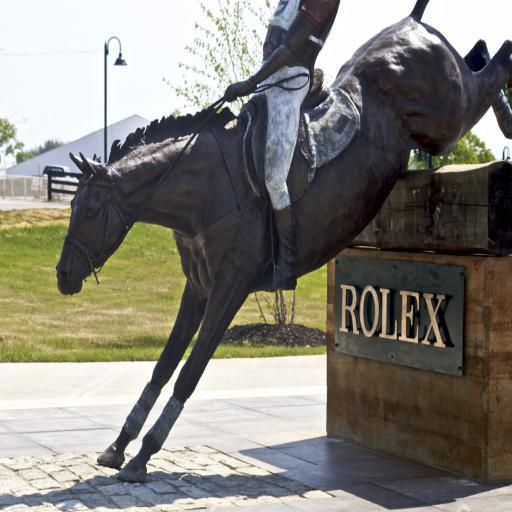Horse: (56, 0, 512, 482)
